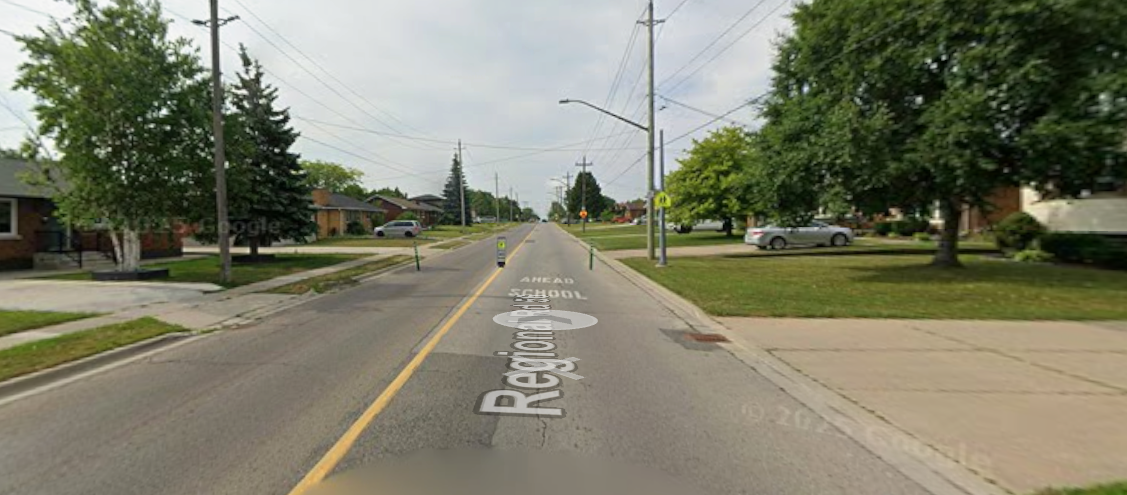construction: (403, 231, 608, 282)
cracks: (526, 405, 561, 456)
